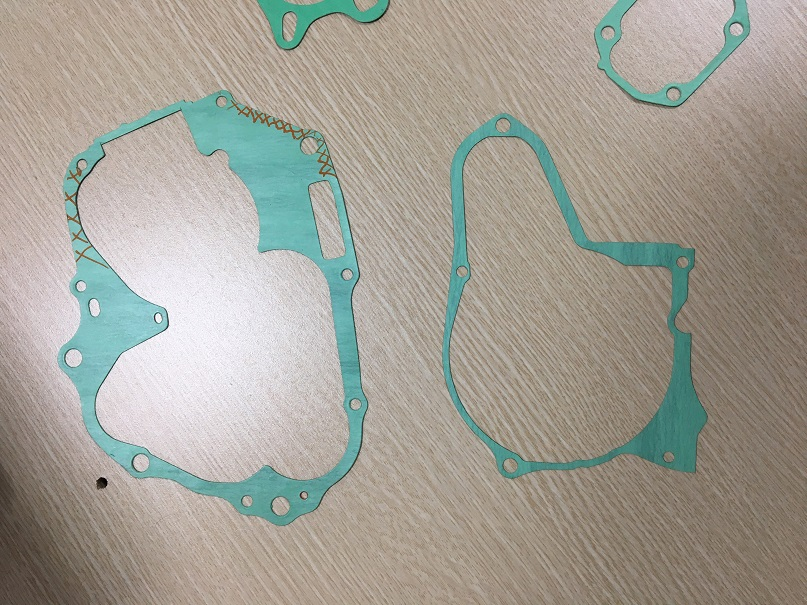type1: (433, 106, 719, 485)
type2: (584, 2, 759, 111)
type3: (52, 86, 378, 532)
